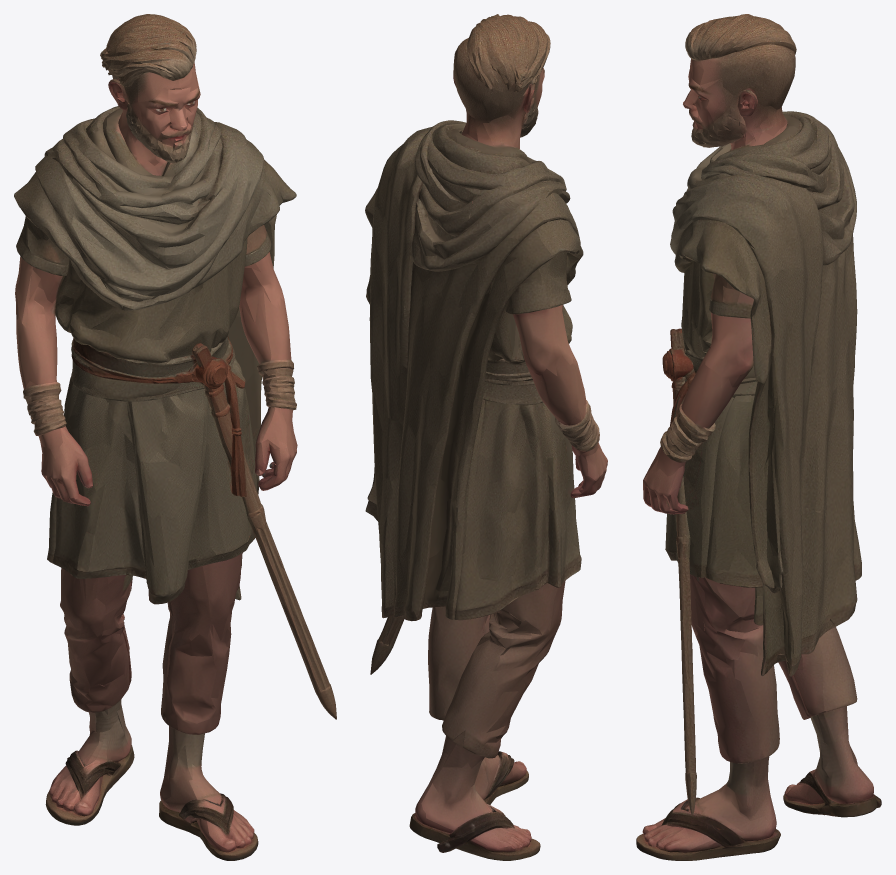
File: pre-roman-iberia.glb
3 views of the same model, side by side, from view 1: azimuth 30°, elevation 25°; view 2: azimuth 150°, elevation 25°; view 3: azimuth 270°, elevation 25° (orthographic).
Parts seen in each view (by area): view 1: mesh_node; view 2: mesh_node; view 3: mesh_node.
Boxes of the visible parts, x1,y1,x2,y2 form: mesh_node: (14, 14, 336, 860); mesh_node: (365, 14, 607, 860); mesh_node: (636, 14, 881, 860).
Bounding box in the file's own units: 0.6563 × 1.9 × 0.5221.
Materials: 1 (1 with a texture image).
